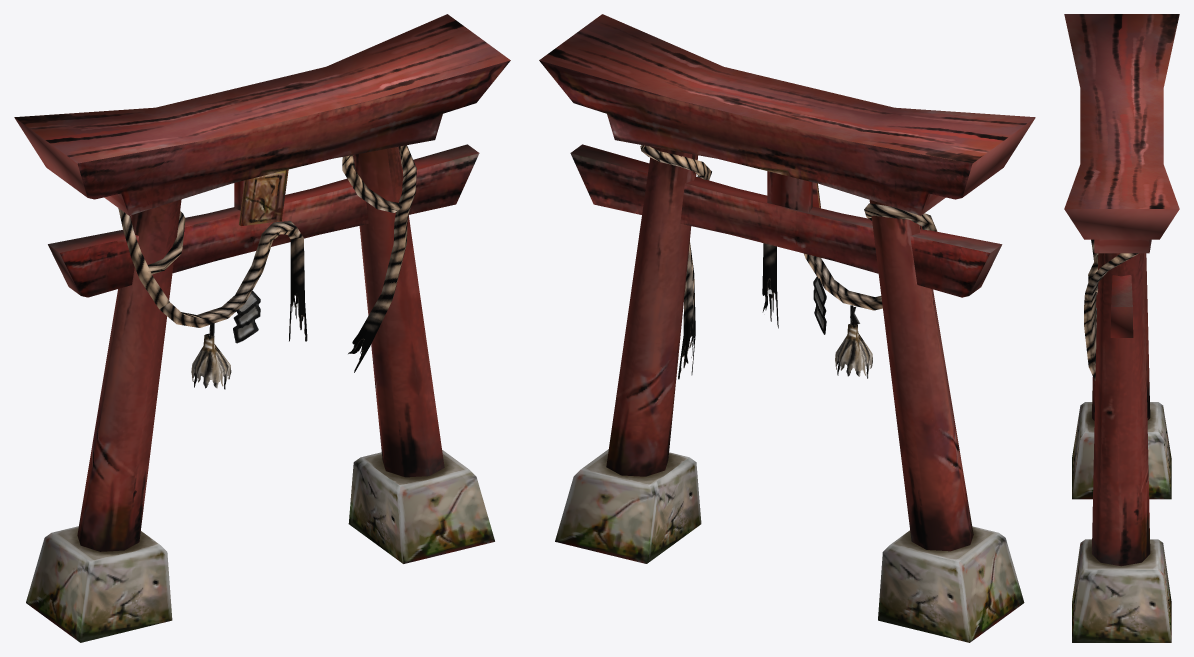
The model's file is PRP_GateAncientA.FBX.
3 views of the same model, side by side, from view 1: azimuth 30°, elevation 25°; view 2: azimuth 150°, elevation 25°; view 3: azimuth 270°, elevation 25° (orthographic). The views are drawn at different scales.
Visible parts, largest first — view 1: PRP_GateAncientA; view 2: PRP_GateAncientA; view 3: PRP_GateAncientA.
Boxes of the visible parts, x1,y1,x2,y2 form: PRP_GateAncientA: (14,14,510,642); PRP_GateAncientA: (539,14,1035,642); PRP_GateAncientA: (1064,14,1179,642).
Size of the model in its own units: 1296 by 1384 by 328.
